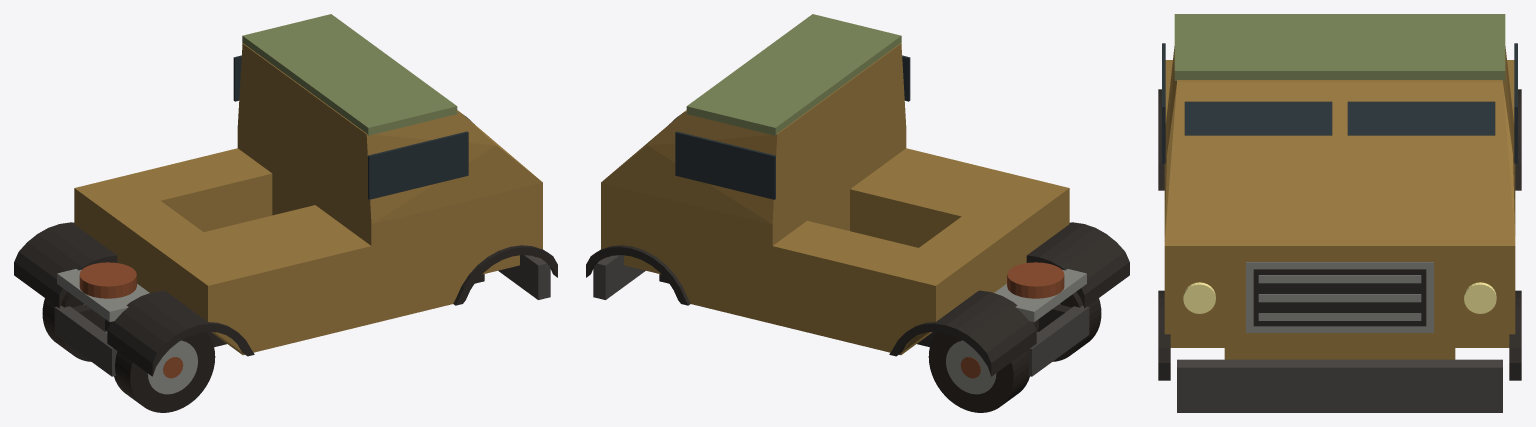
Rendered from base_sorokonoga.glb.
3 views of the same model, side by side, from view 1: azimuth 30°, elevation 25°; view 2: azimuth 150°, elevation 25°; view 3: azimuth 270°, elevation 25° (orthographic). The views are drawn at different scales.
Visible parts, largest first — view 1: base_sorokonoga; view 2: base_sorokonoga; view 3: base_sorokonoga.
Boxes of the visible parts, left/top/right/bottom form: base_sorokonoga: left=14, top=14, right=557, bottom=412; base_sorokonoga: left=586, top=14, right=1129, bottom=412; base_sorokonoga: left=1158, top=14, right=1521, bottom=412.
Bounding box in the file's own units: 4.9 × 2.94 × 2.9.
